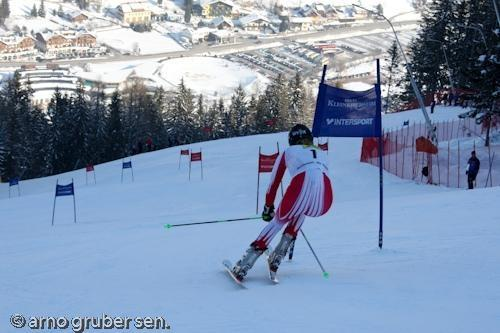car: (309, 52, 320, 62), (298, 49, 308, 56), (239, 52, 248, 58), (257, 60, 267, 65), (267, 76, 274, 80), (301, 66, 305, 70), (288, 72, 292, 74)
